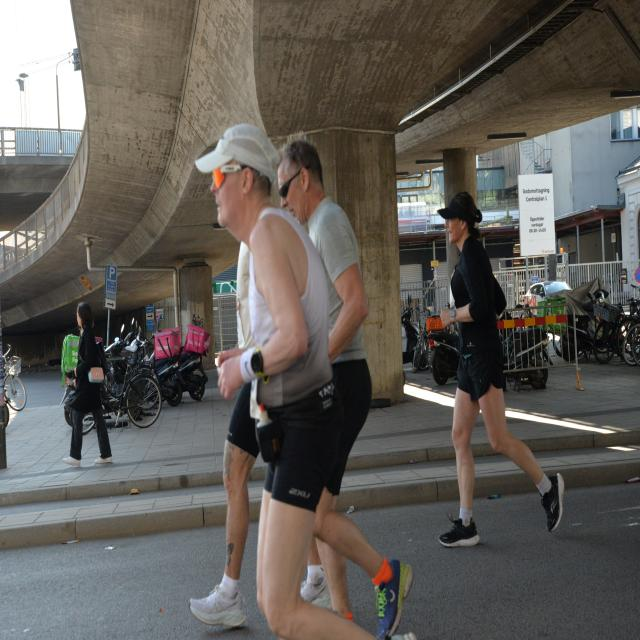runner-detect: (428, 182, 567, 566)
